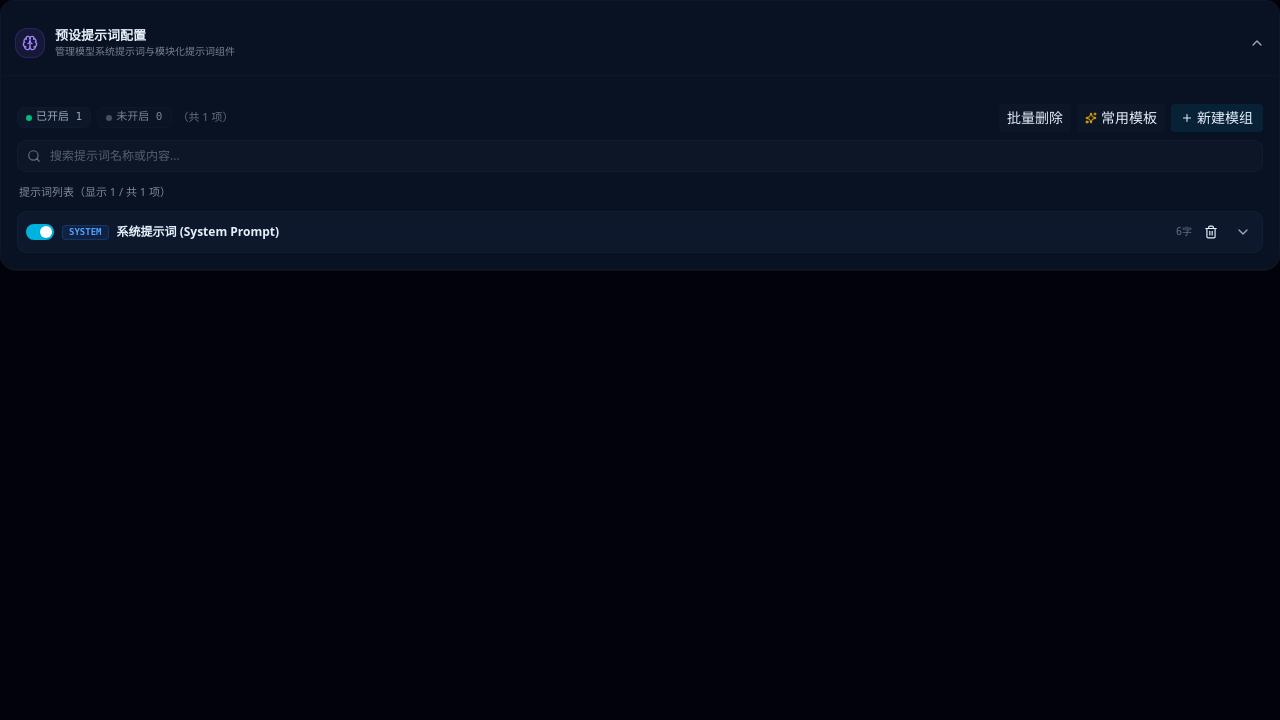
Test: PromptsConfigSection 所有预设一视同仁统一列表 › 改名内置「系统提示词」就地保存，不平转成新模组且输入框保持原位
The width and height of the screenshot is (1280, 720).
Step 1. Click the button named "展开或折叠 系统提示词 (System Prompt) 详情" → (1238,232), box [1226,220,1250,244]
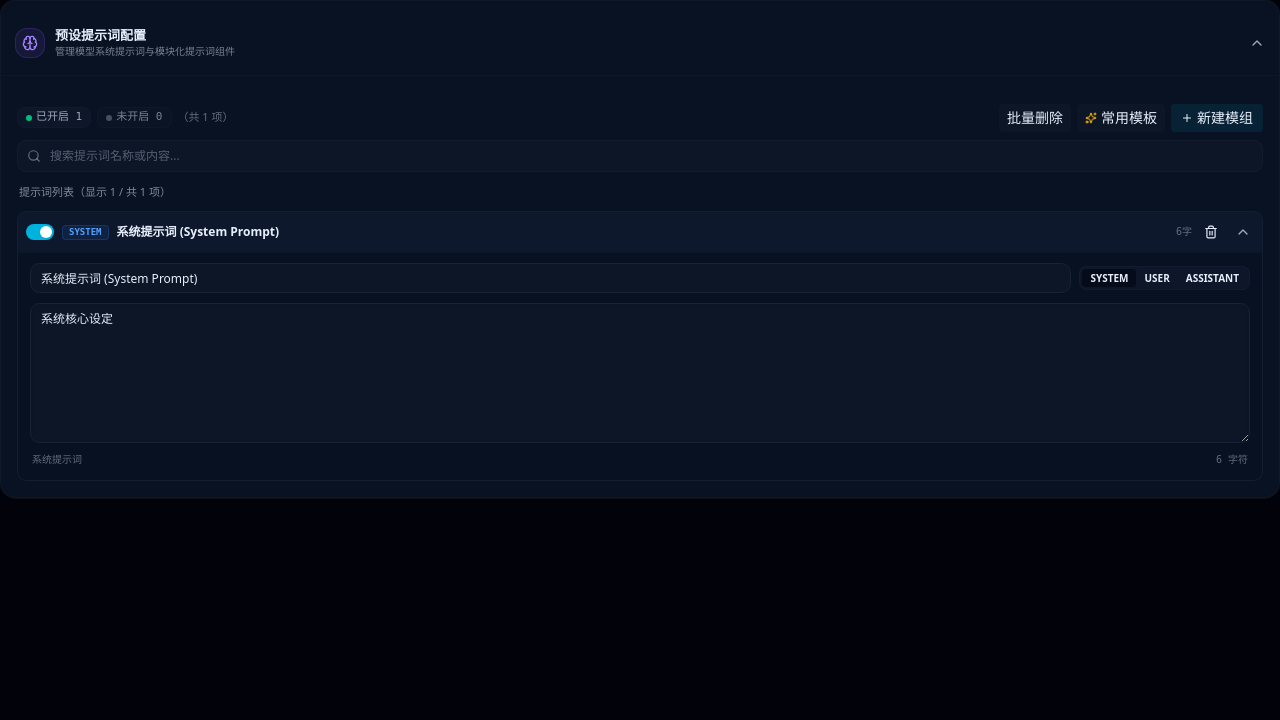
Step 2. Replace the text in the field with placeholder "提示词名称" with "人格核心" → (551,278), box [30,263,1071,293]
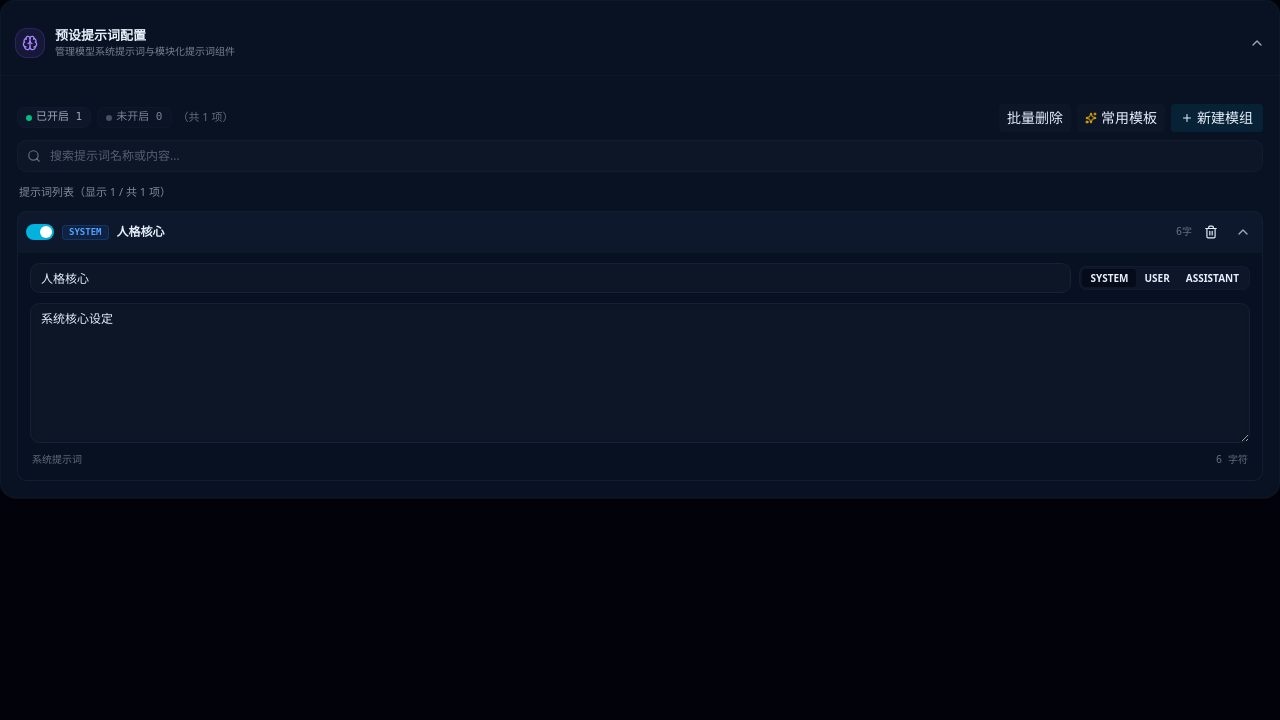
Check: the text "人格核心" is shown, box [116,223,164,240]
